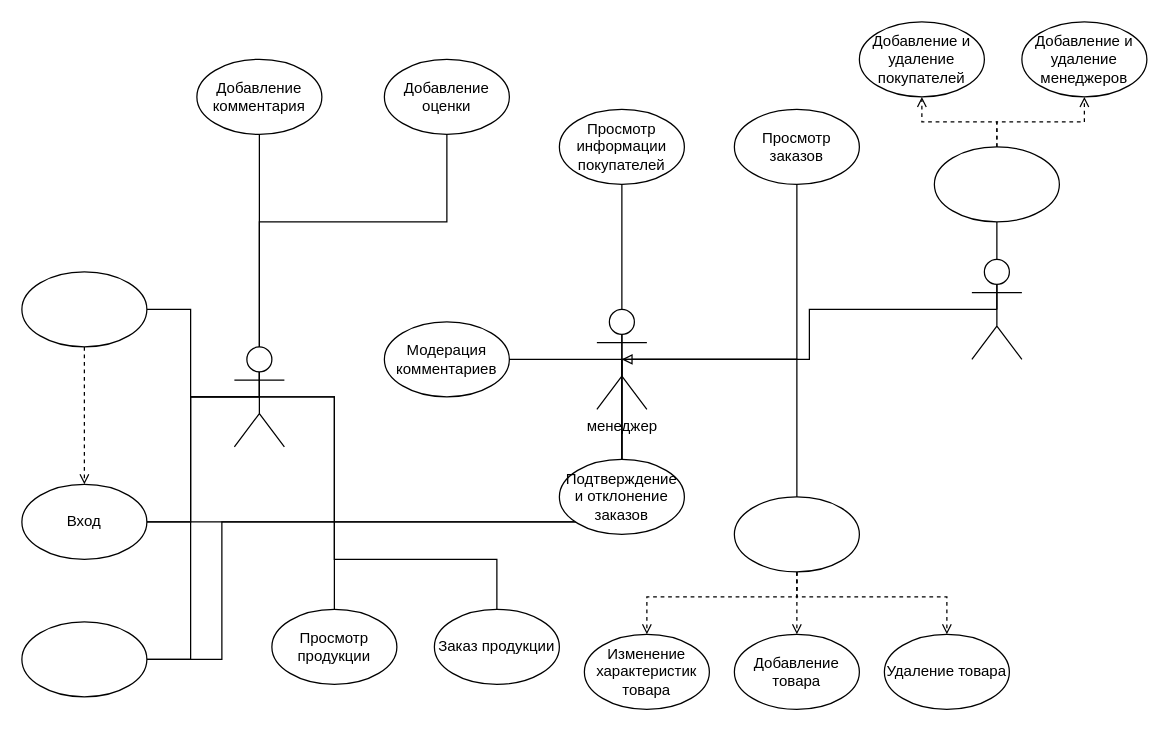
The diagram is 1169 pixels wide and 731 high, and some of its shapes have lost their labels. The box of each missing label's shape, as (x1, y1, x2, y2) in pixels:
администратор: (971, 258, 1022, 359)
Выход: (21, 621, 147, 697)
Добавление и удаление пользователей: (933, 146, 1059, 222)
Обновление продукции и информации о ней: (733, 496, 859, 572)
покупатель: (233, 346, 284, 447)
Регистрация: (21, 271, 147, 347)
